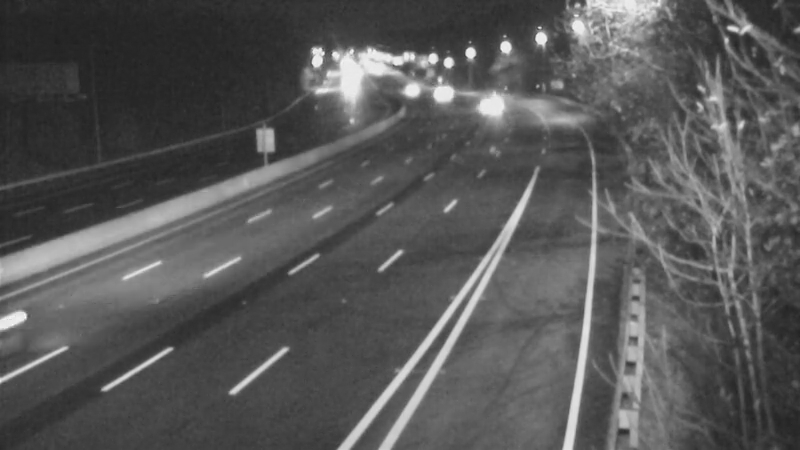vehicle: (384, 64, 434, 114), (417, 69, 467, 119), (463, 79, 513, 129), (321, 61, 371, 111)
